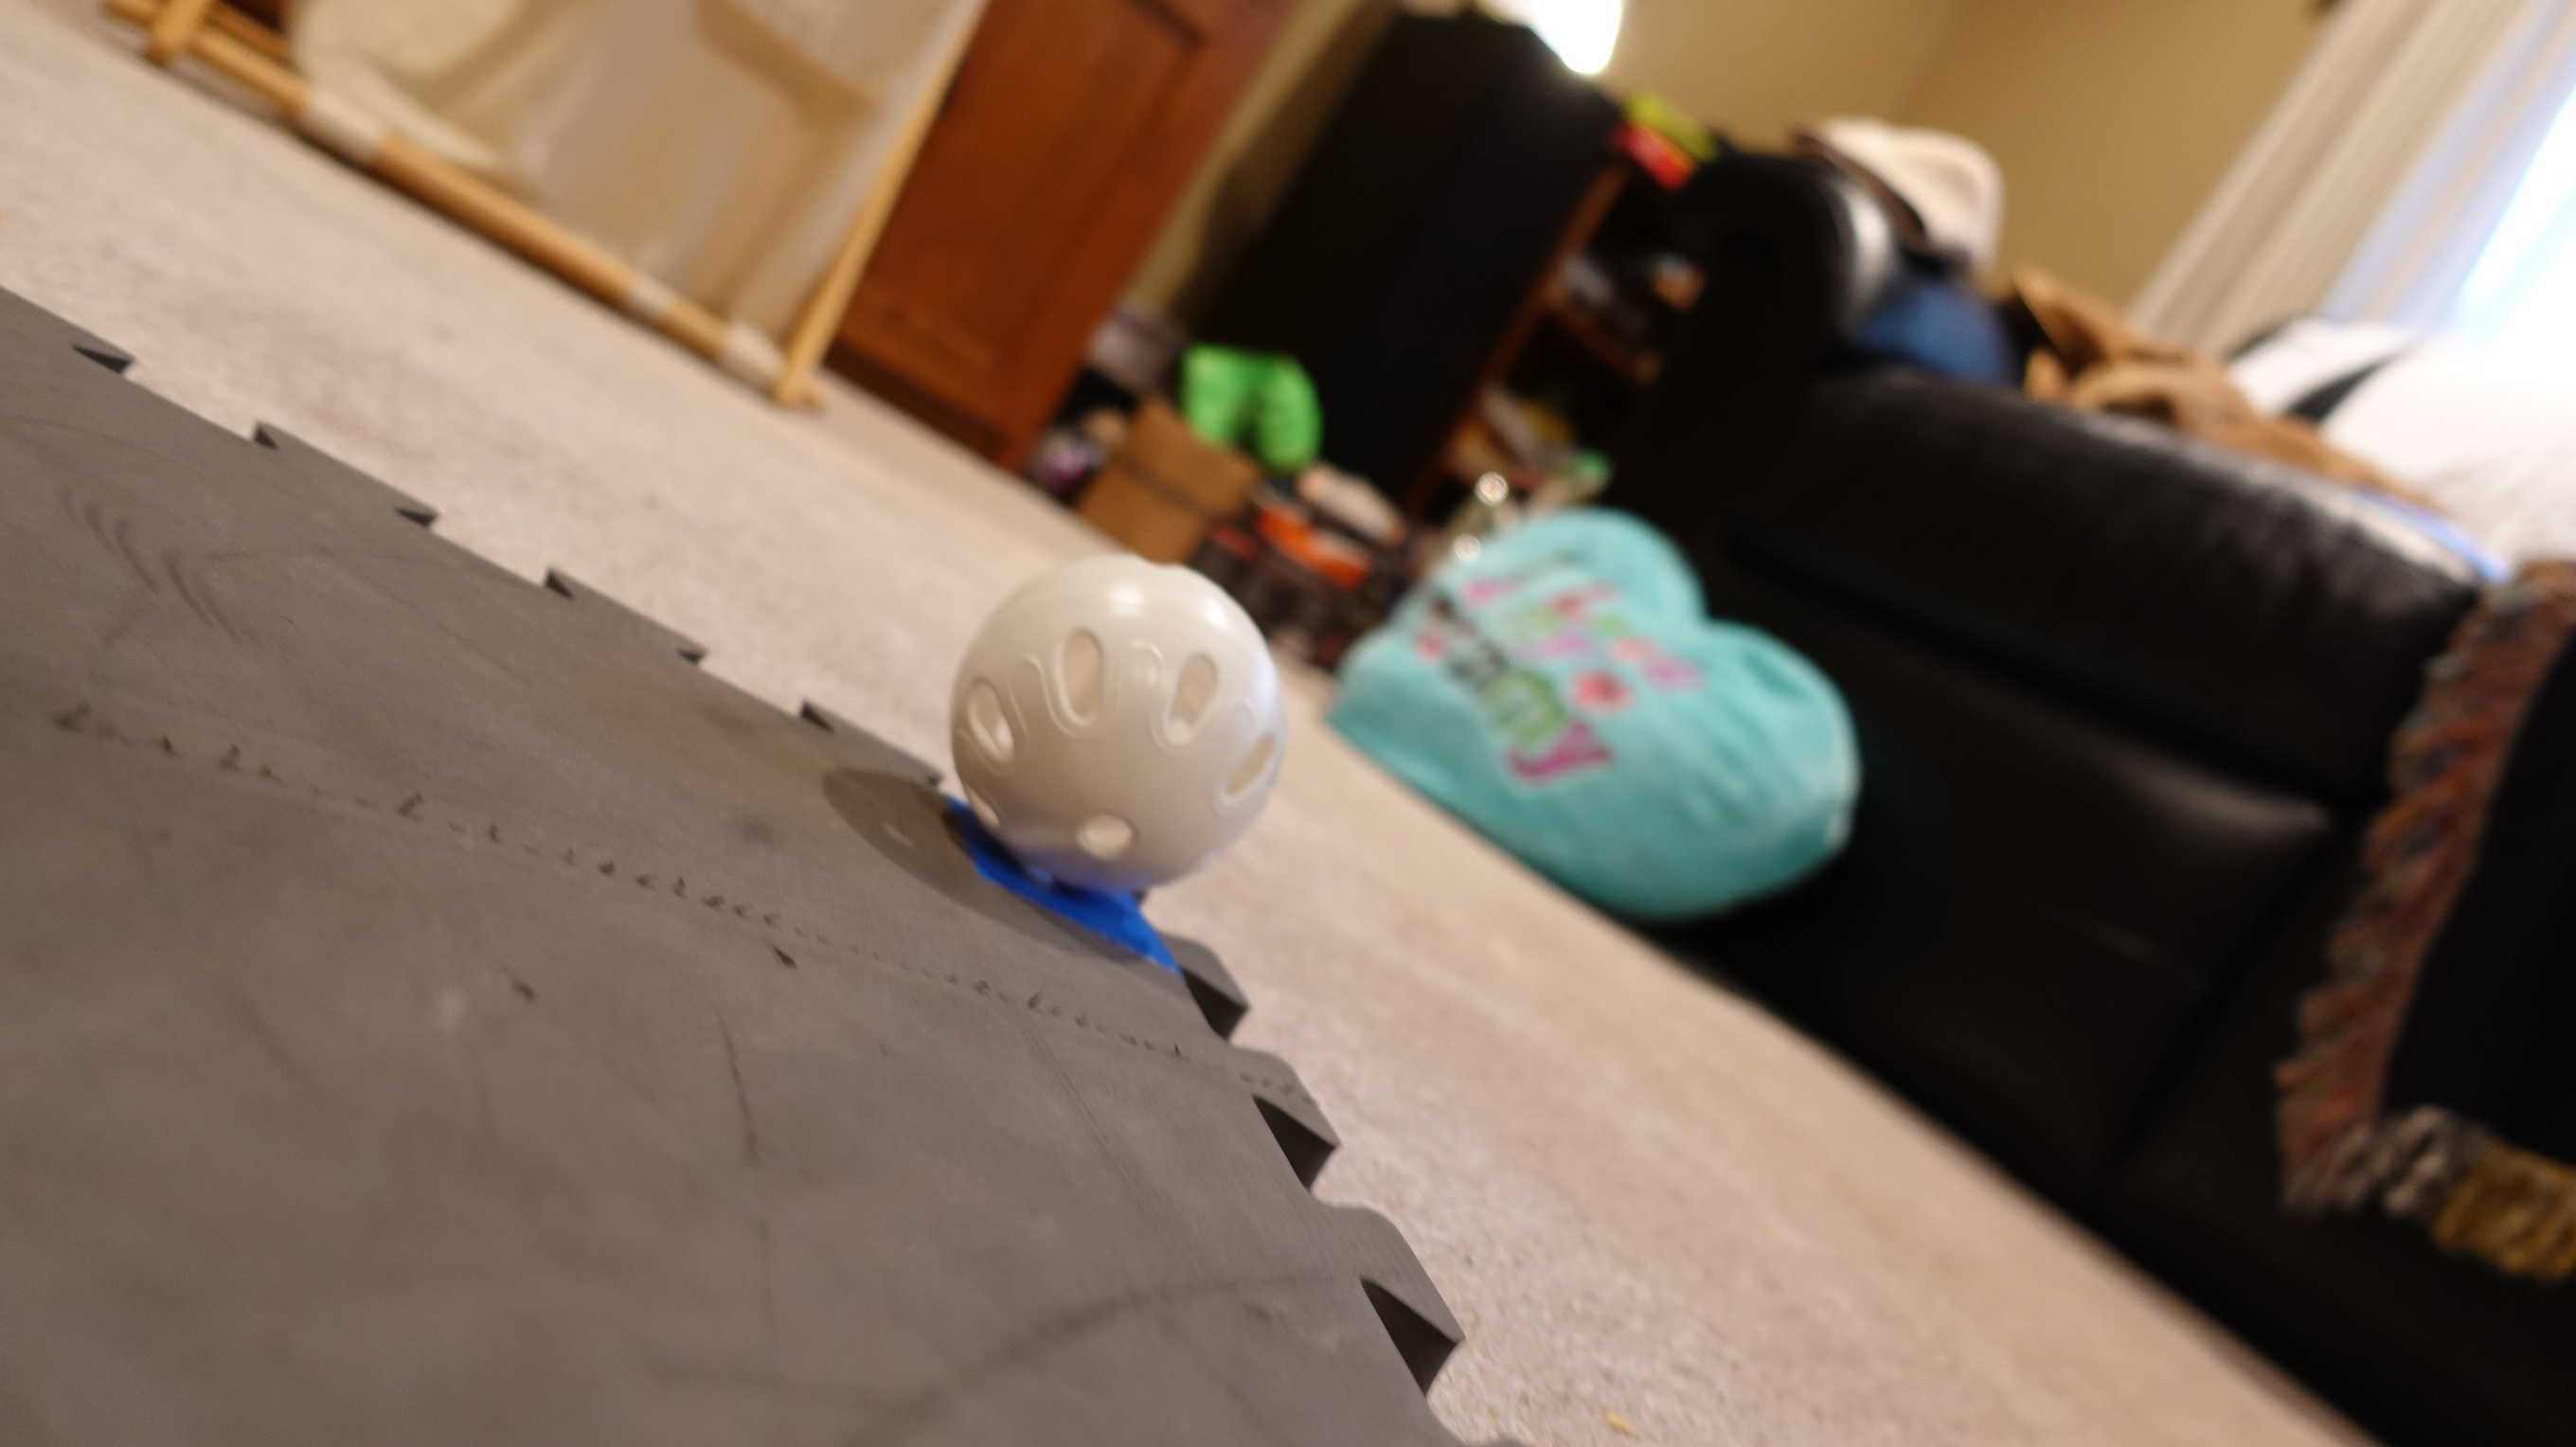silver: (945, 550, 1284, 893)
